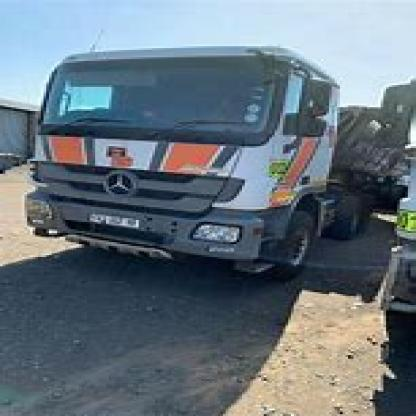dump_truck: (19, 37, 411, 281)
